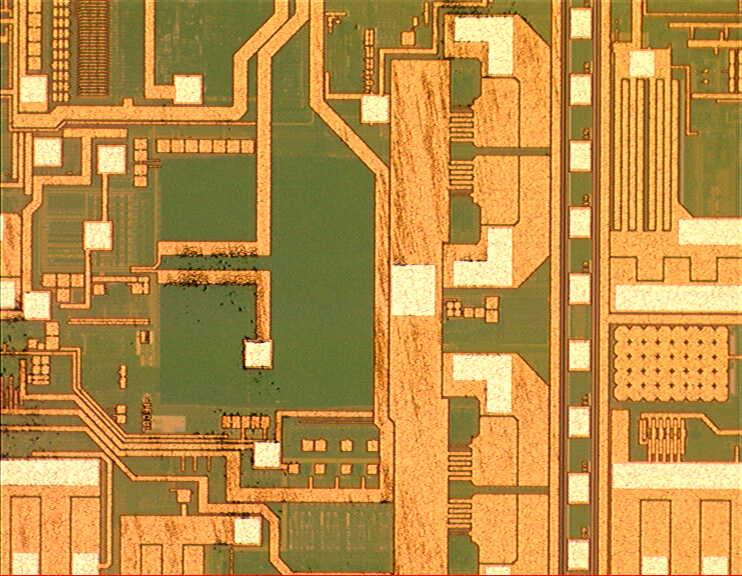SCRATCH: (1, 1, 564, 576)
